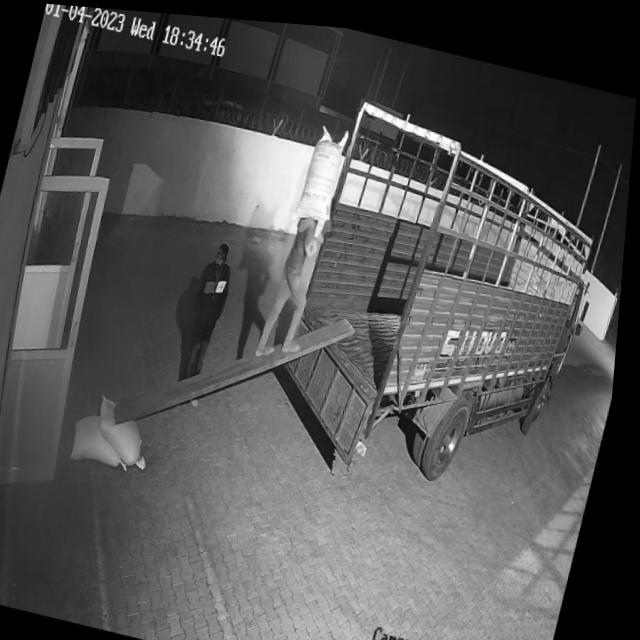sack: (293, 115, 352, 224), (93, 390, 166, 468), (75, 407, 144, 469)
